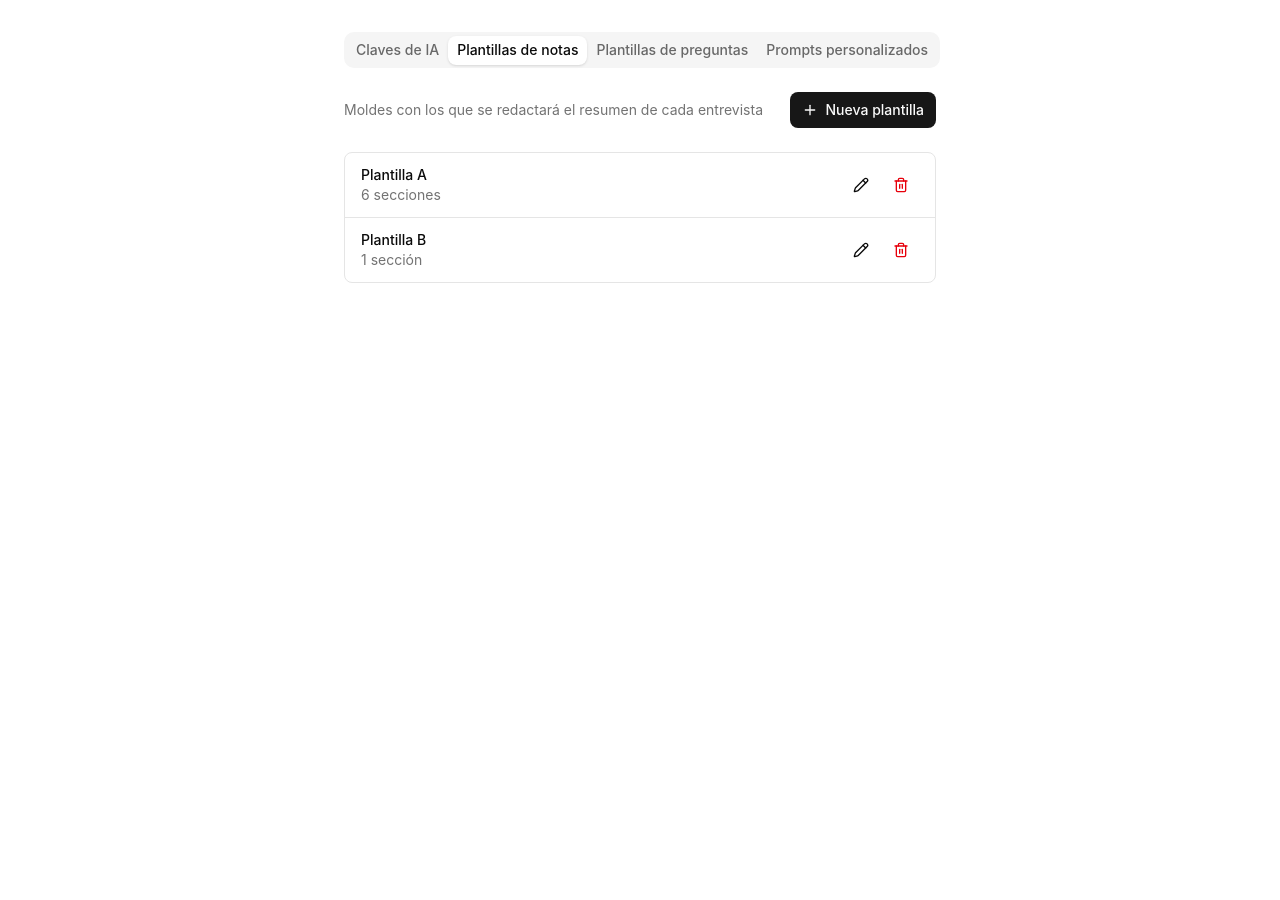
Test: NoteTemplatesTab (listado) › deleting a template › opens the "Eliminar plantilla" AlertDialog naming the template, with Cancelar and Eliminar
The image size is (1280, 900).
Expected: the text "Plantilla A" is shown, [361,166,427,183]
Click the button named "Eliminar plantilla" in the row of "Plantilla A" at {"x": 901, "y": 185}, box [883,167,919,203]
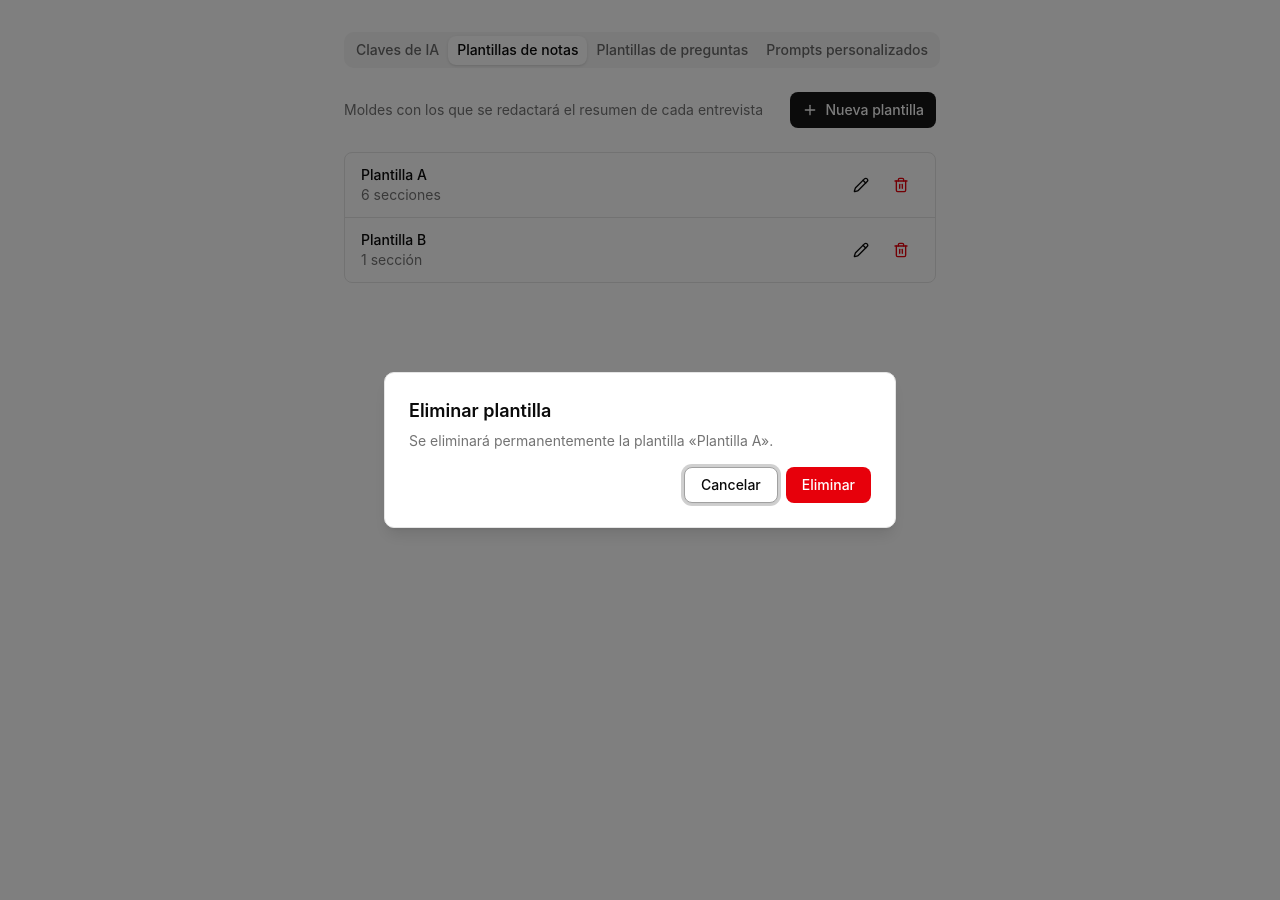
Expected: the heading "Eliminar plantilla" is shown, [409,397,551,425]
Expected: the text "Se eliminará permanentemente la plantilla «Plantilla A»." is shown, [409,431,773,451]
Expected: the button "Cancelar" is shown, [684,467,778,503]
